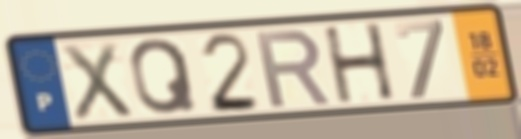2: (198, 30, 262, 115)
7: (392, 18, 447, 101)
H: (319, 20, 399, 107)
Q: (127, 36, 201, 118)
R: (252, 27, 334, 111)
X: (58, 39, 137, 124)
